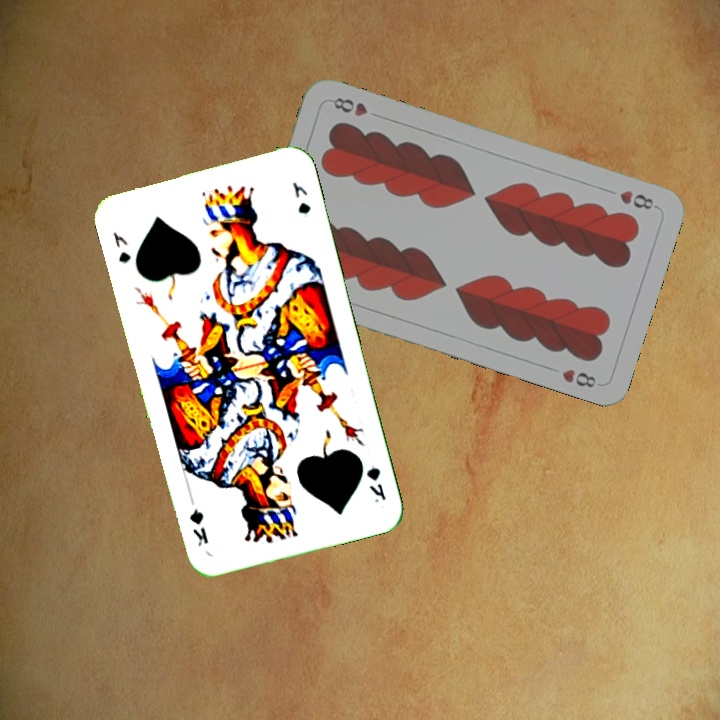GK: (362, 463, 389, 505), (108, 228, 134, 266)
H8: (615, 186, 660, 212)
